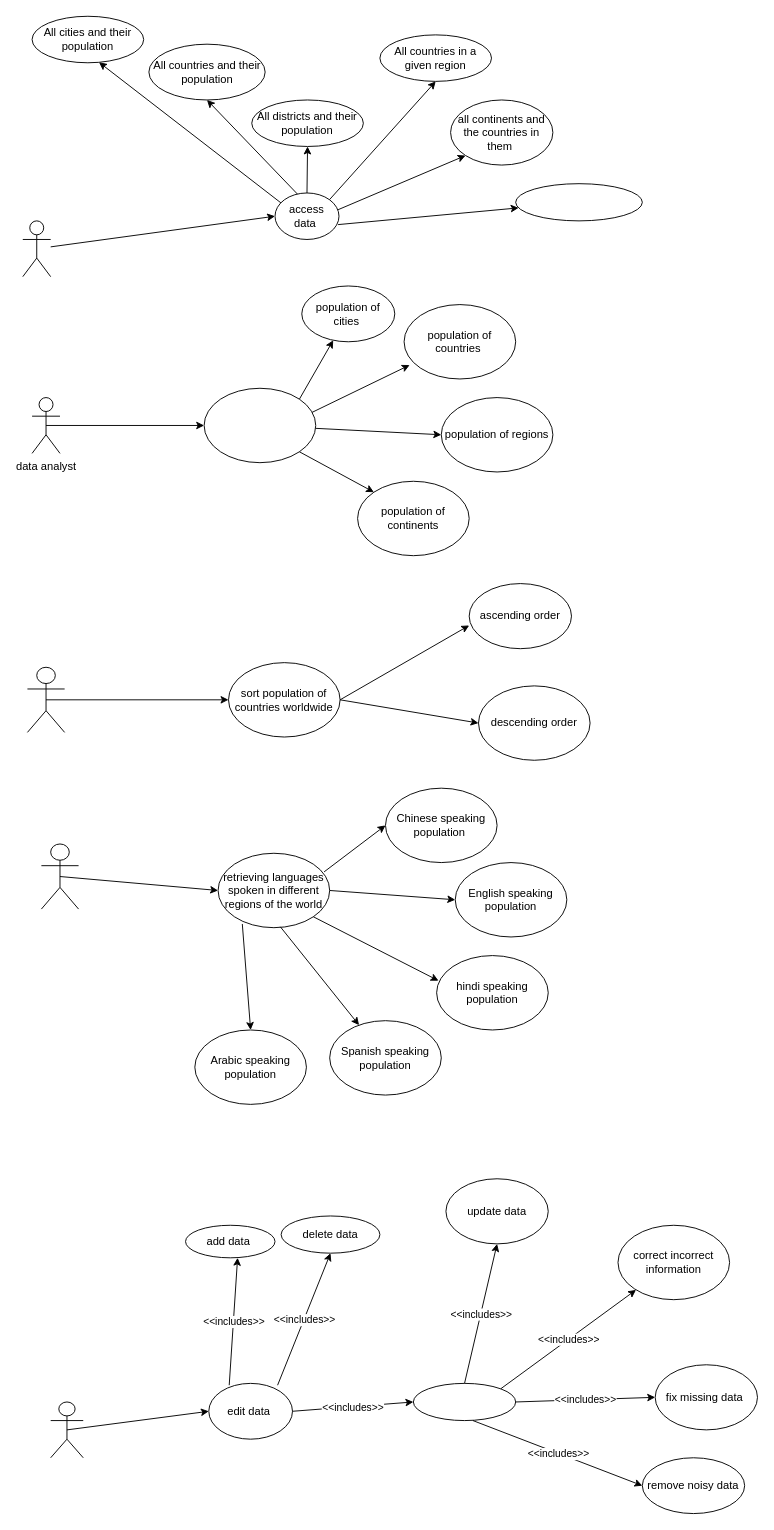
The diagram is 774 pixels wide and 1530 high, and some of its shapes have lost their labels. Here are the shapes that lost their labels. From the top down, the centre of each, then its label:
At point 578,202: "Total population of a continent".
At point 36,248: "student".
At point 259,425: "population count".
At point 46,699: "teacher".
At point 59,876: "traveller".
At point 464,1401: "maintain data".
At point 66,1429: "administrator".
